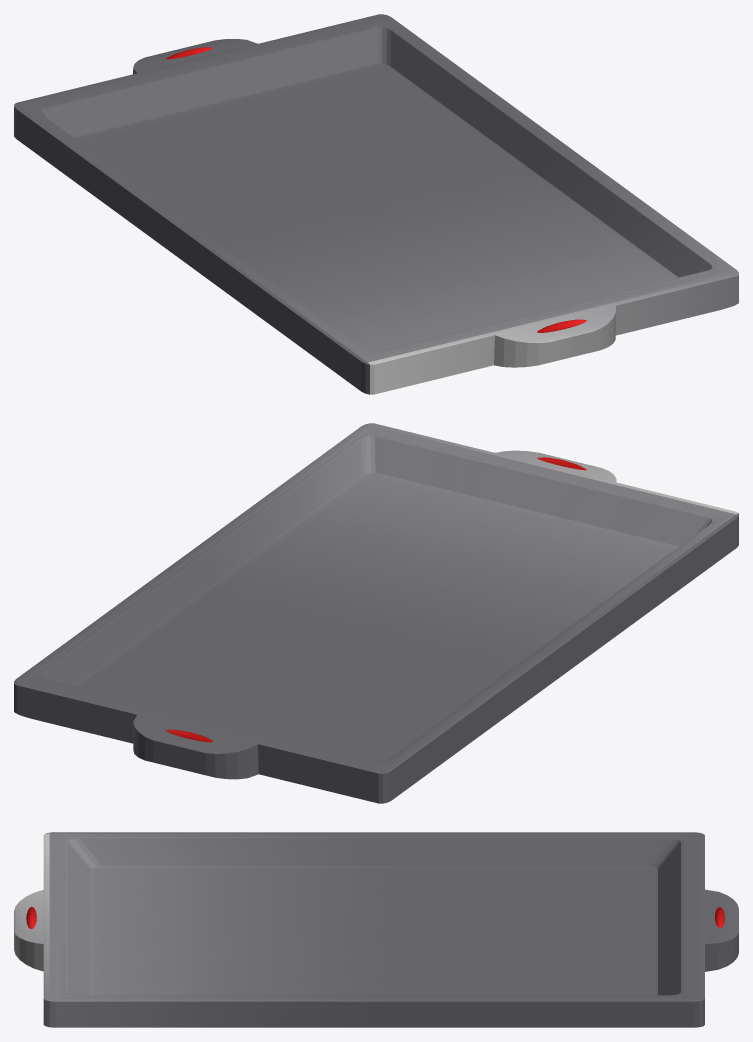
The model's file is OvenTray.glb.
3 views of the same model, one above another, from view 1: azimuth 30°, elevation 25°; view 2: azimuth 150°, elevation 25°; view 3: azimuth 270°, elevation 25° (orthographic). The views are drawn at different scales.
Parts seen in each view (by area): view 1: Sphere.006; view 2: Sphere.006; view 3: Sphere.006.
Boxes of the visible parts, x1=… form: Sphere.006: x1=14, y1=14, x2=738, y2=394; Sphere.006: x1=14, y1=423, x2=738, y2=803; Sphere.006: x1=14, y1=832, x2=738, y2=1027.
Bounding box in the file's own units: 0.3549 × 0.0297 × 0.6419.
Materials: 1 (1 with a texture image).
